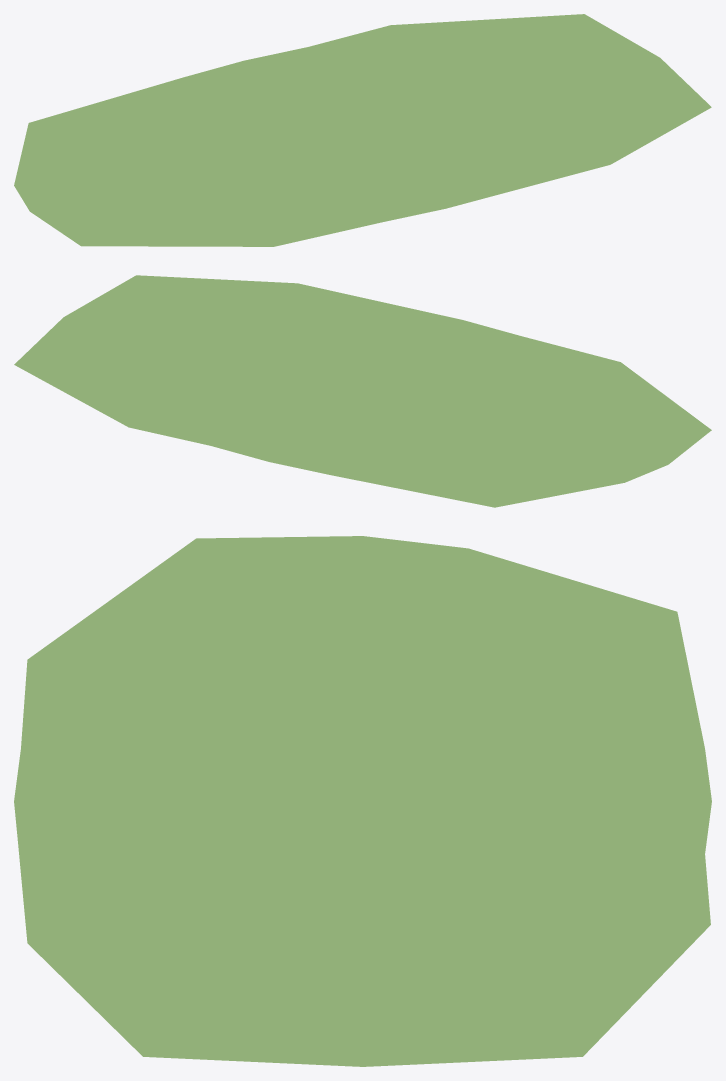
Rendered from SM_IslandTop.fbx.
3 views of the same model, one above another, from view 1: azimuth 30°, elevation 25°; view 2: azimuth 150°, elevation 25°; view 3: azimuth 270°, elevation 25° (orthographic). The views are drawn at different scales.
Parts seen in each view (by area): view 1: SM_IslandTop; view 2: SM_IslandTop; view 3: SM_IslandTop.
Boxes of the visible parts, x1=… form: SM_IslandTop: x1=14, y1=14, x2=711, y2=246; SM_IslandTop: x1=14, y1=275, x2=711, y2=507; SM_IslandTop: x1=14, y1=536, x2=711, y2=1066.
Size of the model in its own units: 100 by 180 by 0.45.
